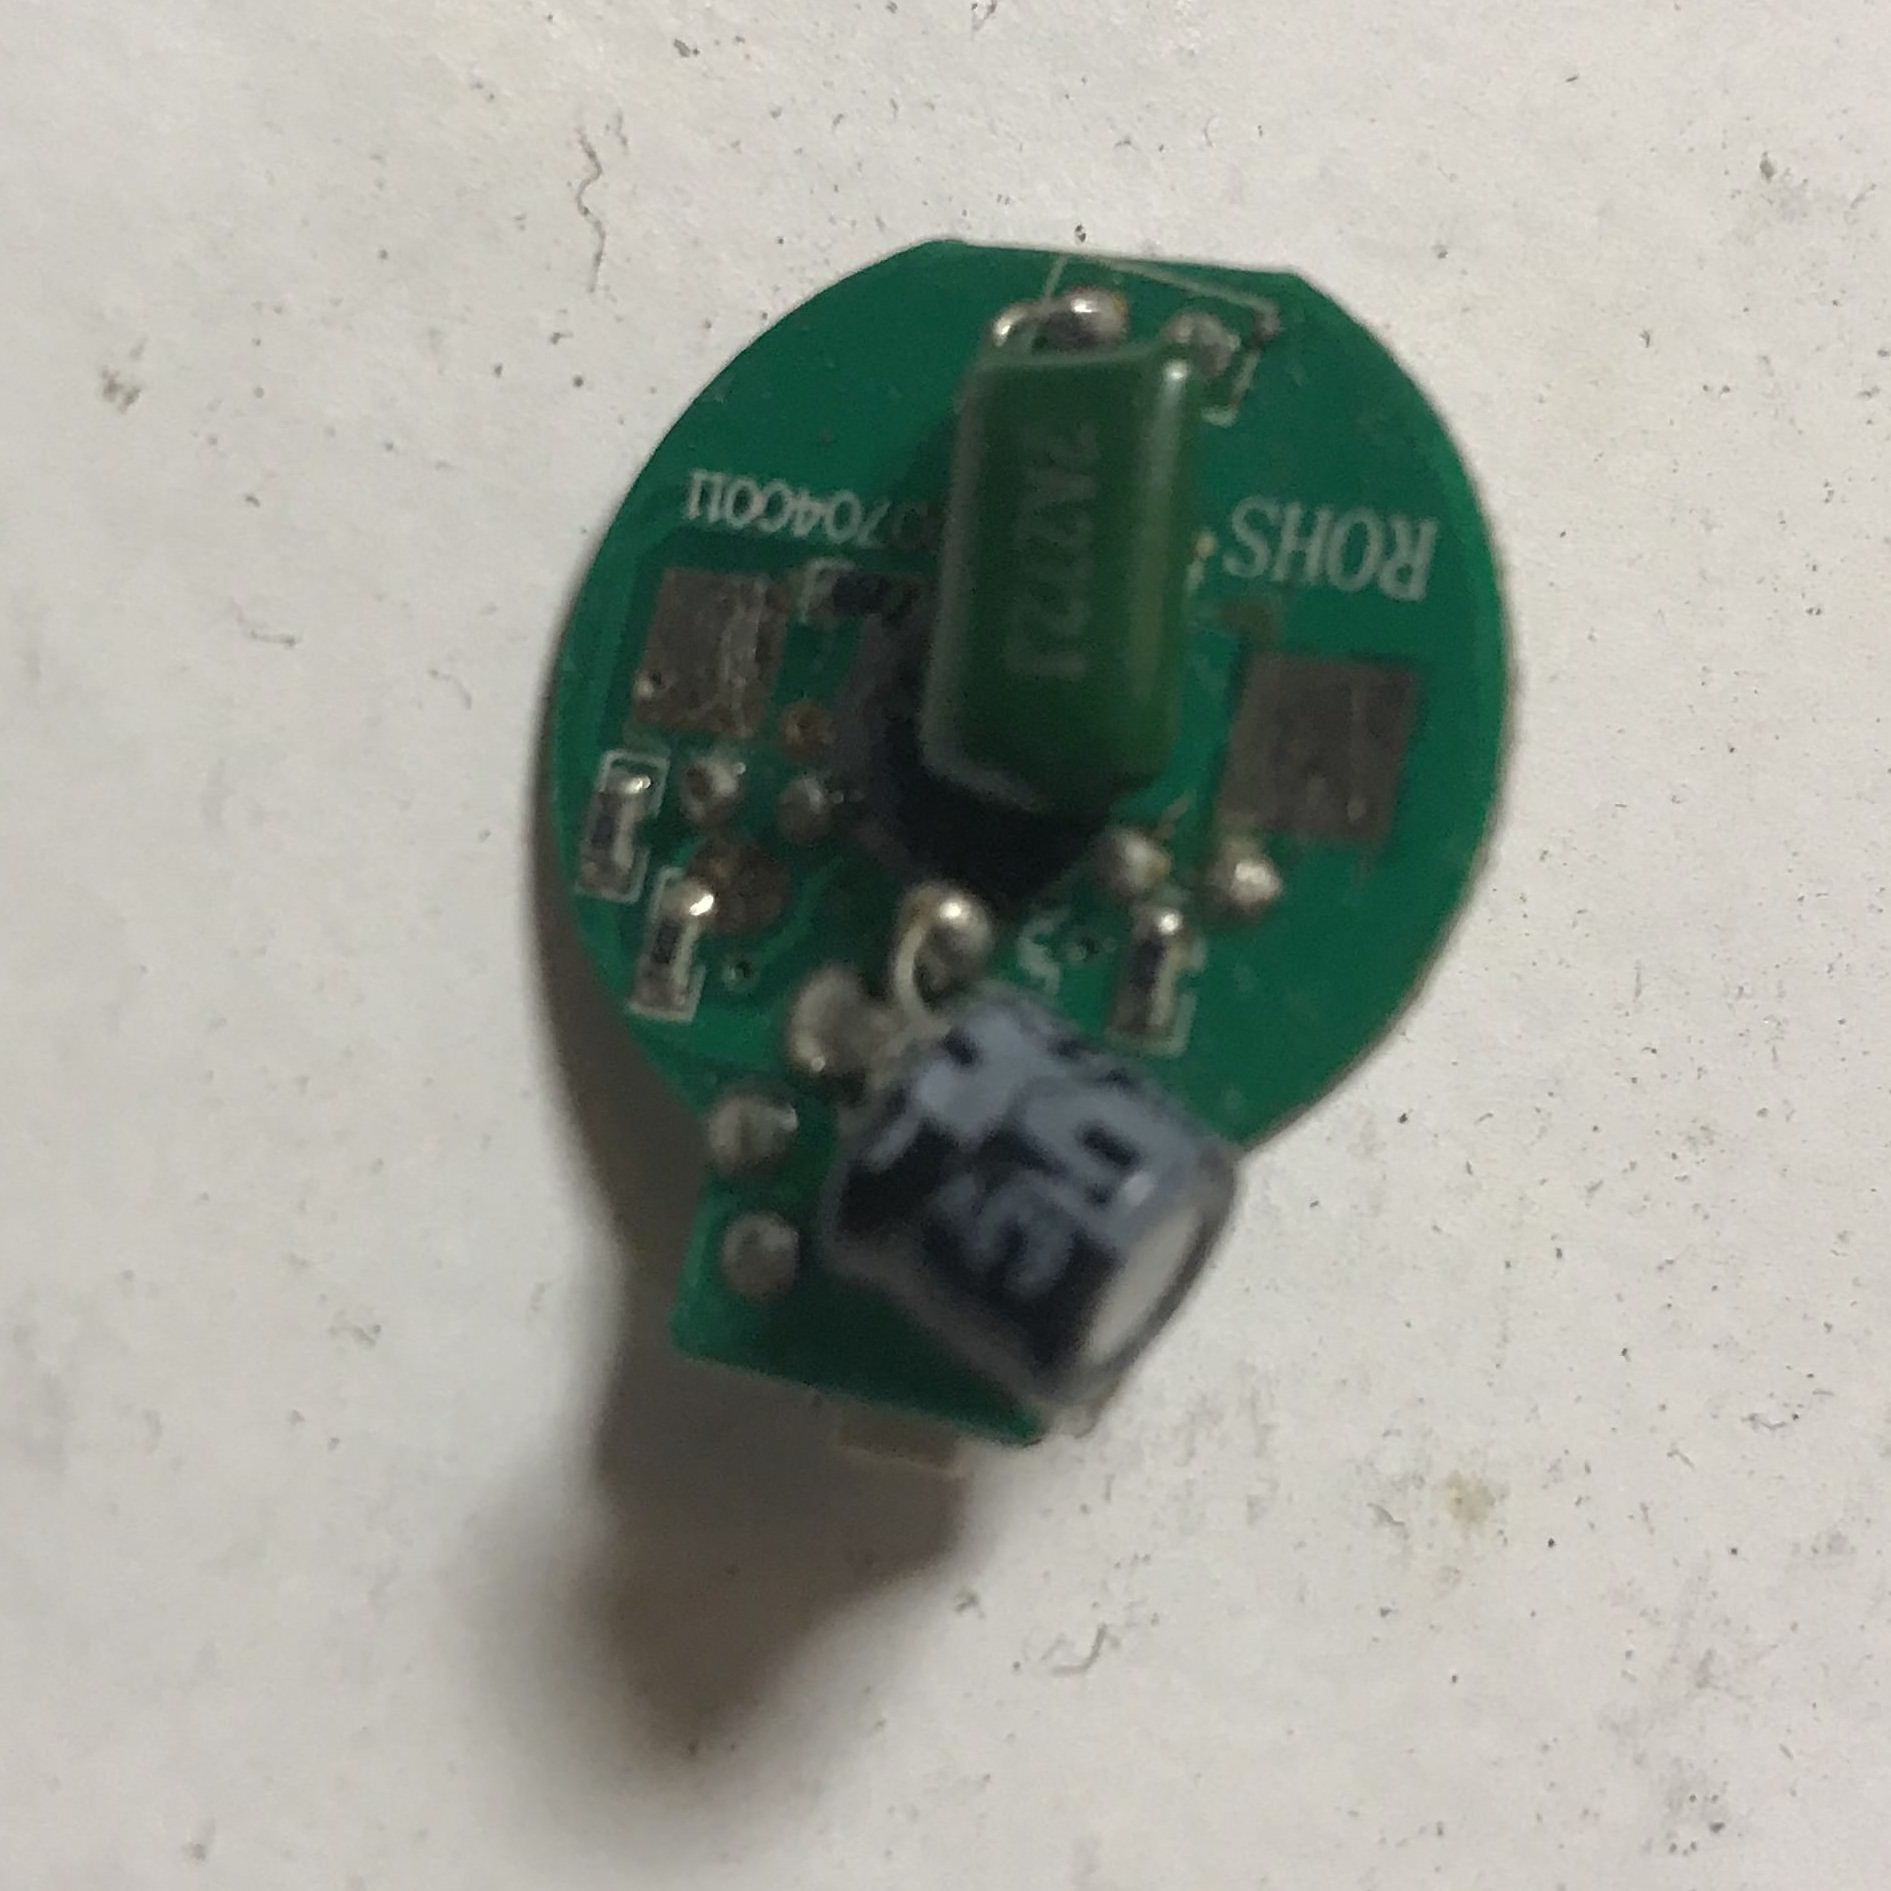Capacitor: (814, 973, 1255, 1420)
